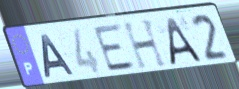2: (190, 12, 231, 63)
4: (73, 27, 103, 76)
A: (166, 15, 204, 67), (40, 32, 77, 80)
E: (92, 22, 139, 74)
H: (121, 17, 170, 71)
